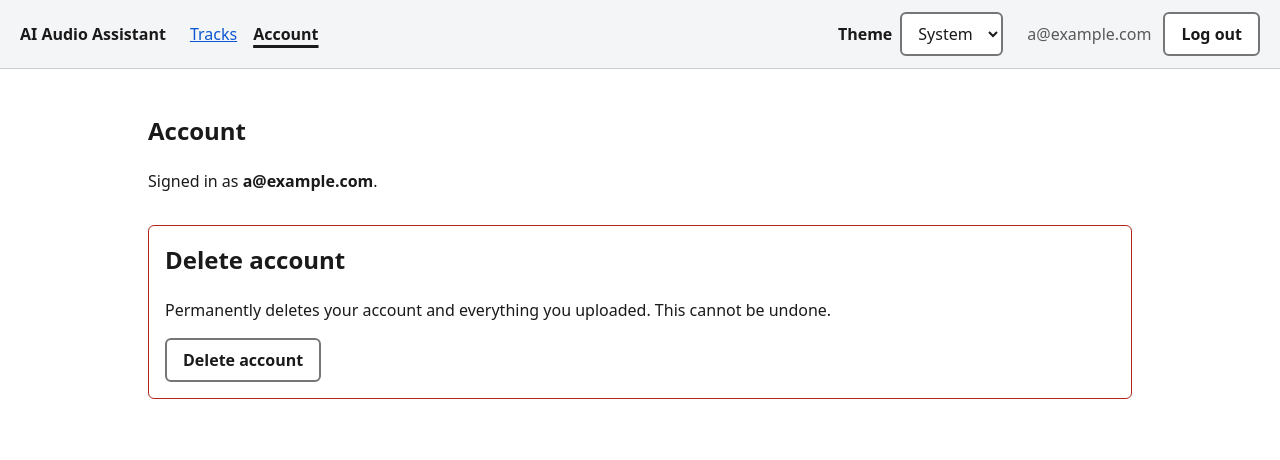
Test case: signed in › logs out: clears the token and goes to a plain login page
Expected: the heading "Account" is shown, [148, 114, 246, 147]
Click the button "Log out" at [1212, 34], box [1163, 12, 1260, 56]
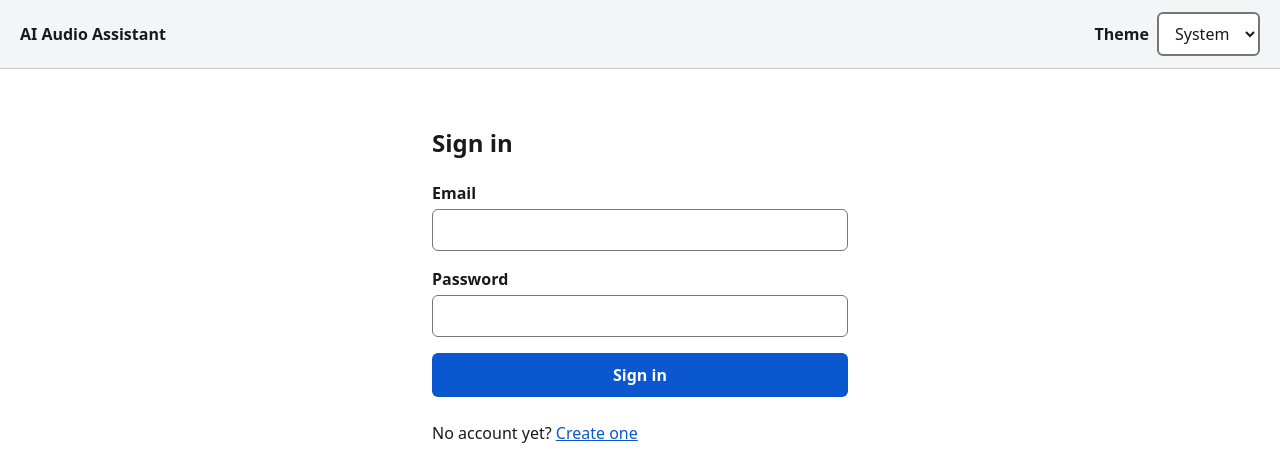
Result: the heading "Sign in" is shown at [432, 126, 513, 159]
Result: the button "Log out" is gone
